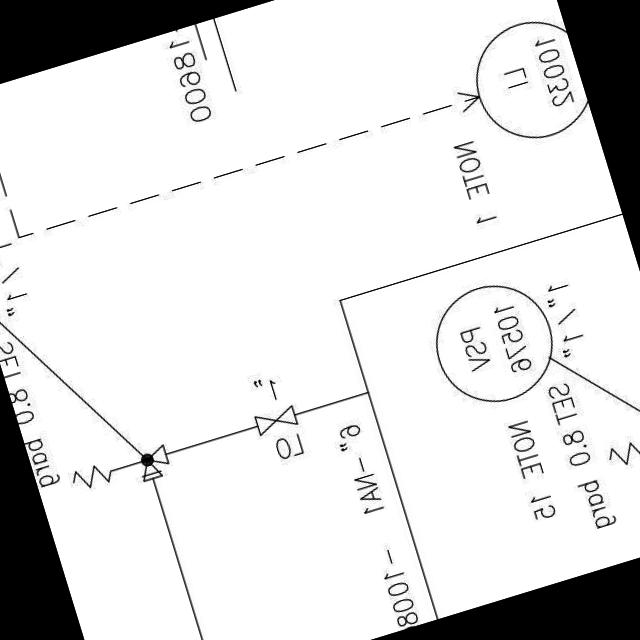GV: (244, 400, 304, 440)
RPV: (62, 436, 180, 508)
